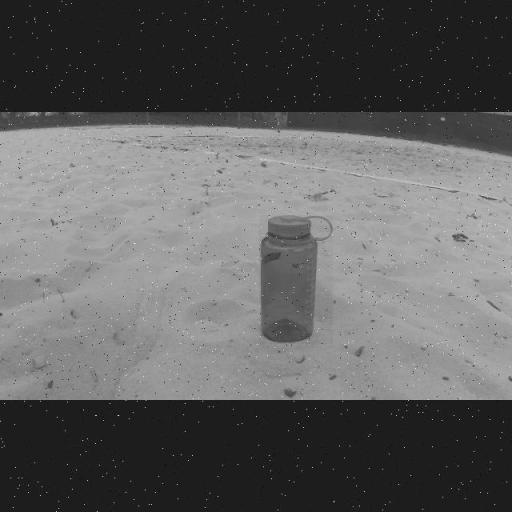bottle: (259, 215, 333, 345)
